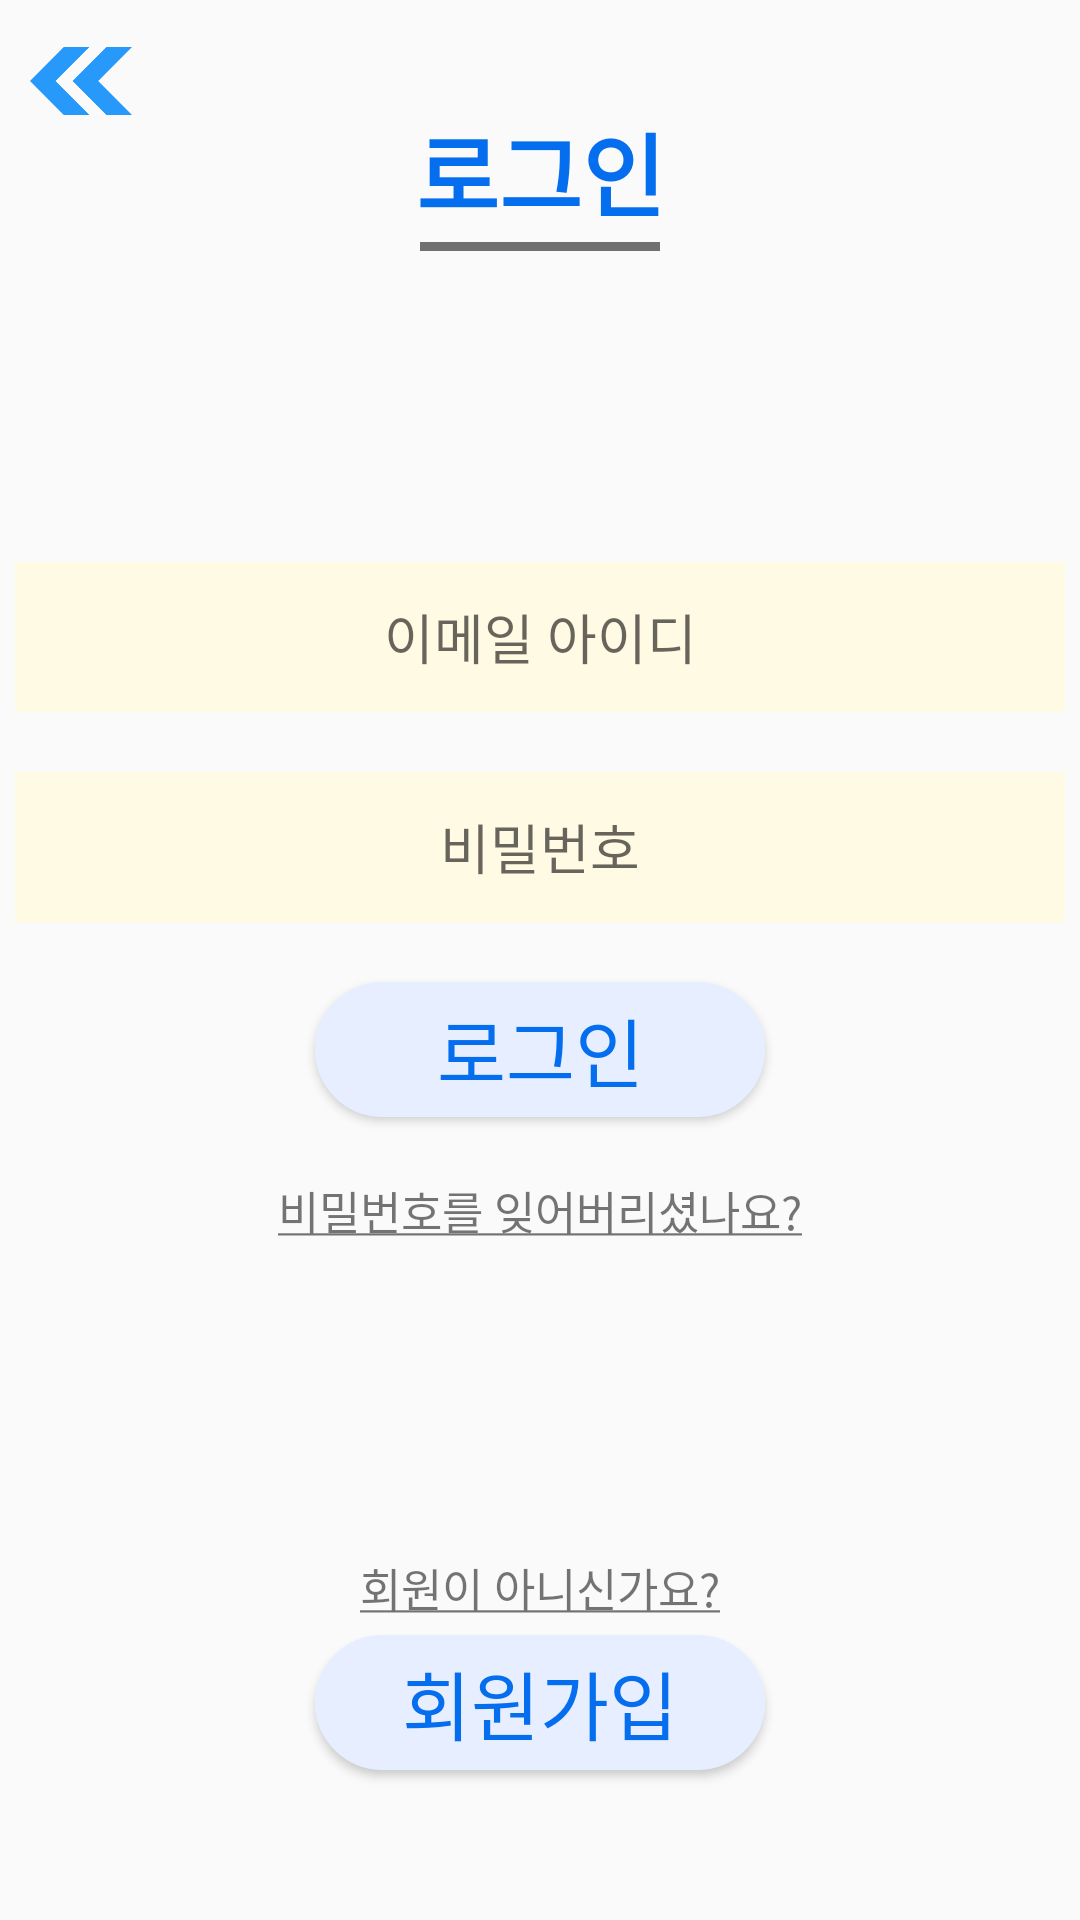

Icon click points for this 1080×1920 phone screenshot, format [x,y]:
double arrow: [81,81]
